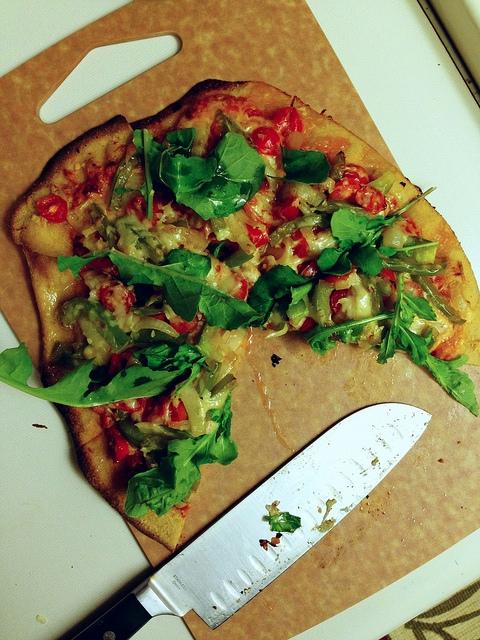bell pepper: (58, 298, 131, 353), (412, 274, 466, 324), (268, 215, 330, 247), (118, 416, 172, 451), (107, 157, 138, 212), (394, 236, 438, 267), (360, 274, 392, 316), (90, 202, 117, 250), (313, 280, 336, 328), (382, 260, 447, 276), (134, 422, 194, 438), (138, 329, 192, 346), (210, 374, 238, 397), (328, 150, 346, 183), (219, 116, 241, 138), (330, 289, 348, 314), (210, 217, 229, 240), (316, 205, 362, 214), (138, 237, 162, 250)
onion: (222, 209, 270, 255), (176, 380, 206, 437), (77, 312, 110, 356), (162, 224, 208, 252), (282, 182, 326, 208), (131, 316, 180, 338), (213, 351, 238, 386), (351, 284, 373, 320), (381, 222, 408, 248), (225, 327, 248, 352), (316, 235, 338, 253), (427, 322, 448, 338), (300, 226, 316, 240), (66, 210, 80, 226)
